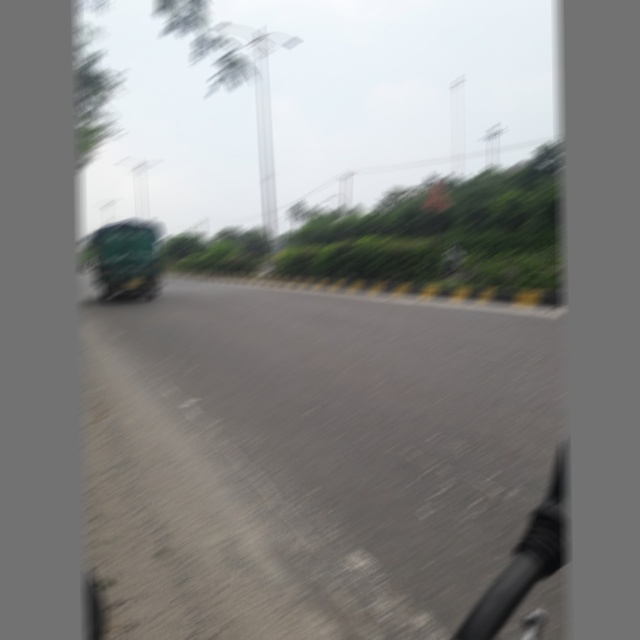Hump_or_Rough_Road: (418, 176, 453, 215)
